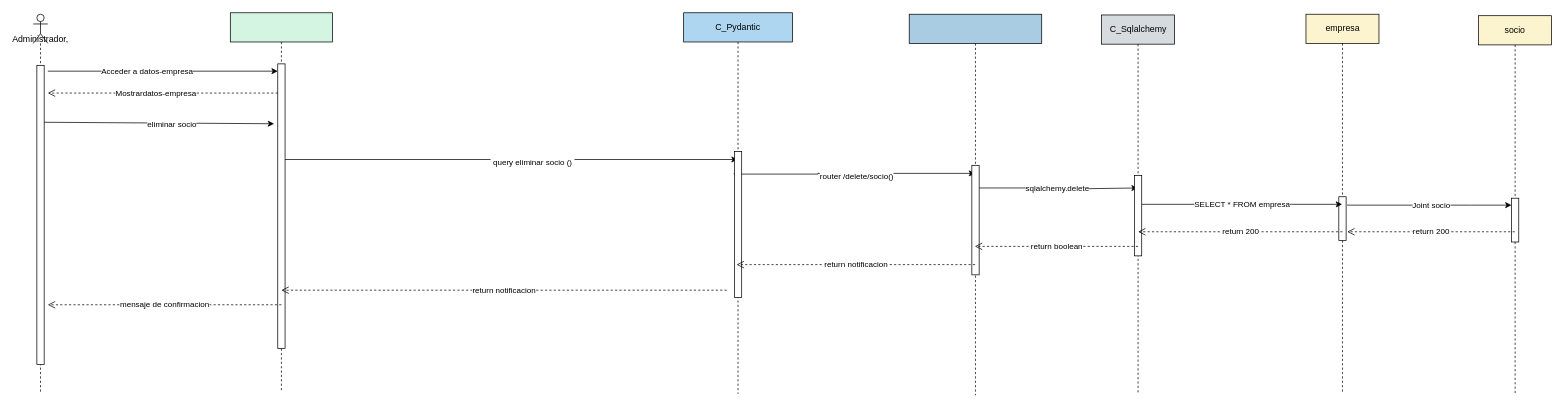
The diagram is 1564 pixels wide and 408 high, and some of its shapes have lost their labels. Here are the shapes that lost their labels. From the top down, the box of each, then its label:
(230, 12, 333, 392): V_datos-empresa
(908, 14, 1042, 395): C_delete_socio
